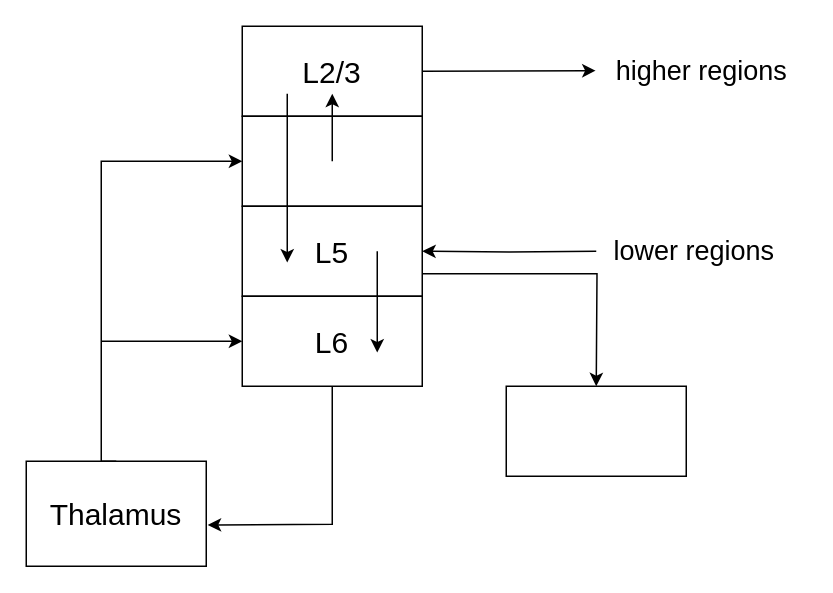
Image size: 833x593. Some labels were removed from this diagram. The centre of each missing label's shape, as x and y in pixels:
"Basal ganglia" belongs at point (595, 430).
"L4" belongs at point (331, 160).
